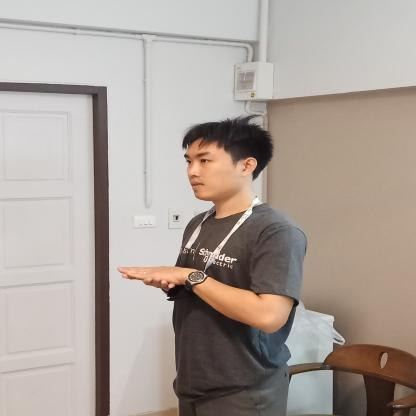Love: (116, 253, 285, 325)
